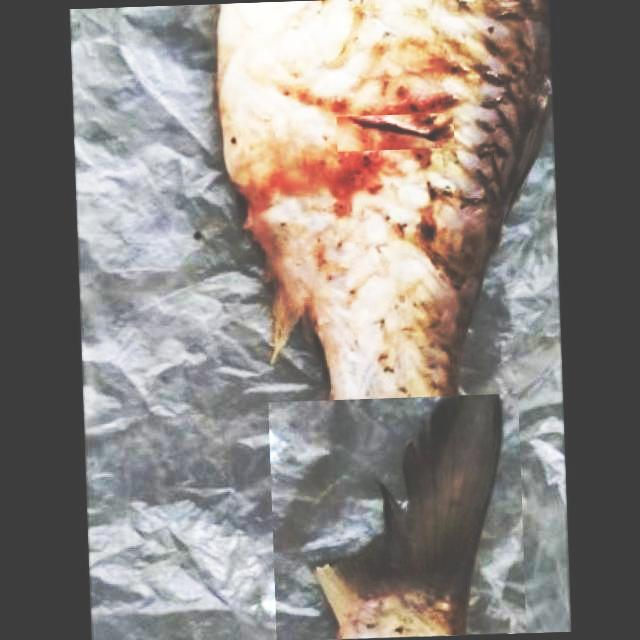Aeromonas Septicemia: (216, 0, 552, 402), (313, 395, 502, 639)
